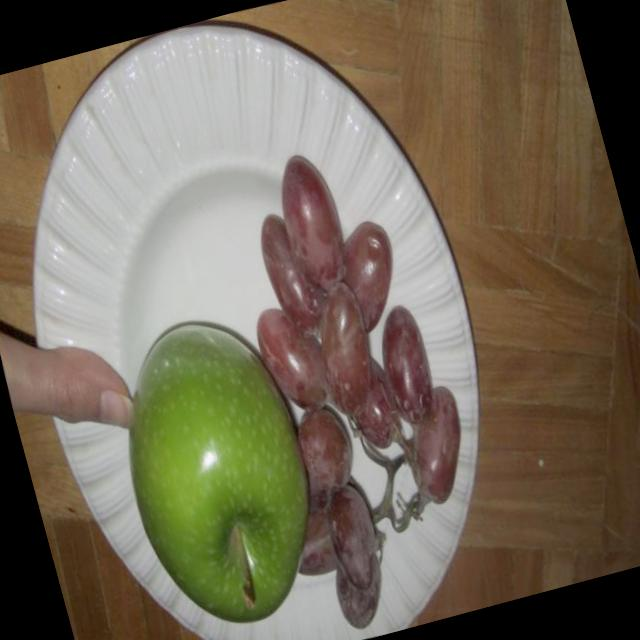Apple: (82, 284, 351, 640)
Finger: (33, 320, 146, 448)
Grapes: (214, 107, 523, 640)
